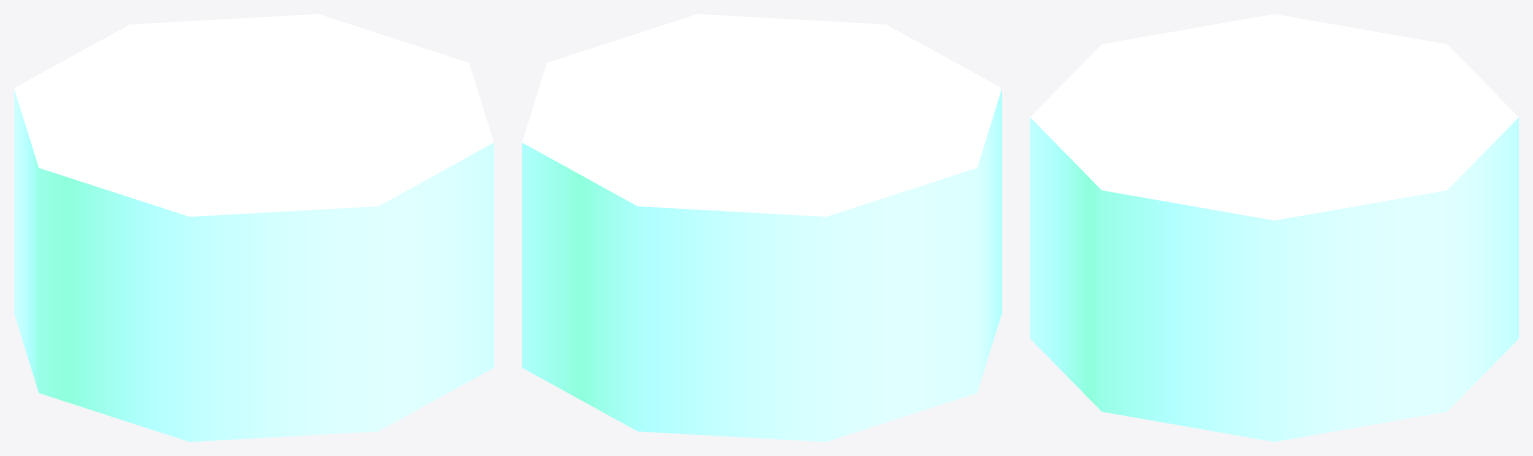
3 views of the same model, side by side, from view 1: azimuth 30°, elevation 25°; view 2: azimuth 150°, elevation 25°; view 3: azimuth 270°, elevation 25° (orthographic).
Parts seen in each view (by area): view 1: Cylinder; view 2: Cylinder; view 3: Cylinder.
Boxes of the visible parts, x1,y1,x2,y2 form: Cylinder: (14, 14, 493, 441); Cylinder: (522, 14, 1001, 441); Cylinder: (1030, 14, 1518, 441).
Bounding box in the file's own units: 2 × 1 × 2.
